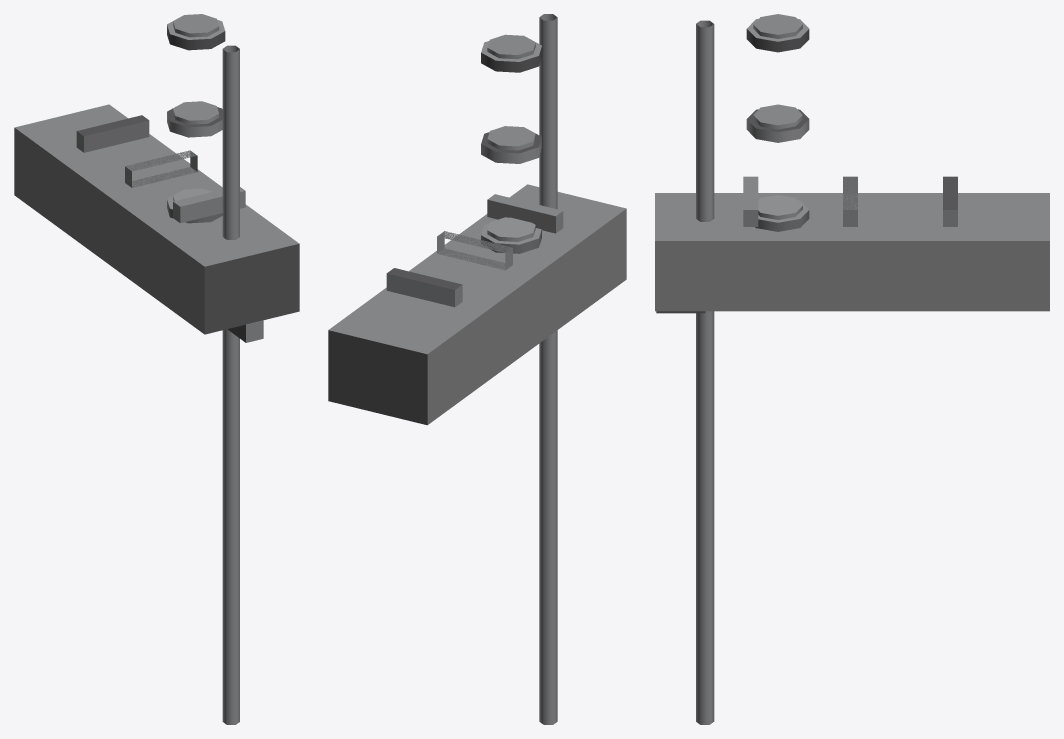
3 views of the same model, side by side, from view 1: azimuth 30°, elevation 25°; view 2: azimuth 150°, elevation 25°; view 3: azimuth 270°, elevation 25° (orthographic). The views are drawn at different scales.
Size of the model in its own units: 0.174 by 1.18 by 0.605.
